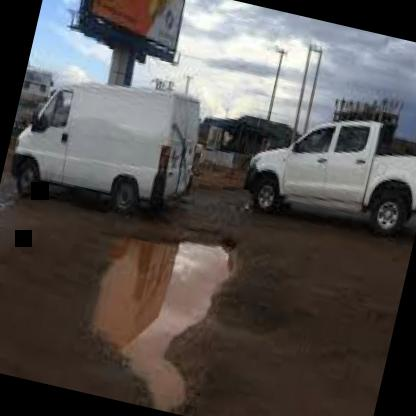car: (0, 46, 222, 242), (232, 84, 416, 256)
